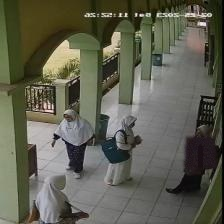Cadar_Niqab: (184, 121, 216, 167)
